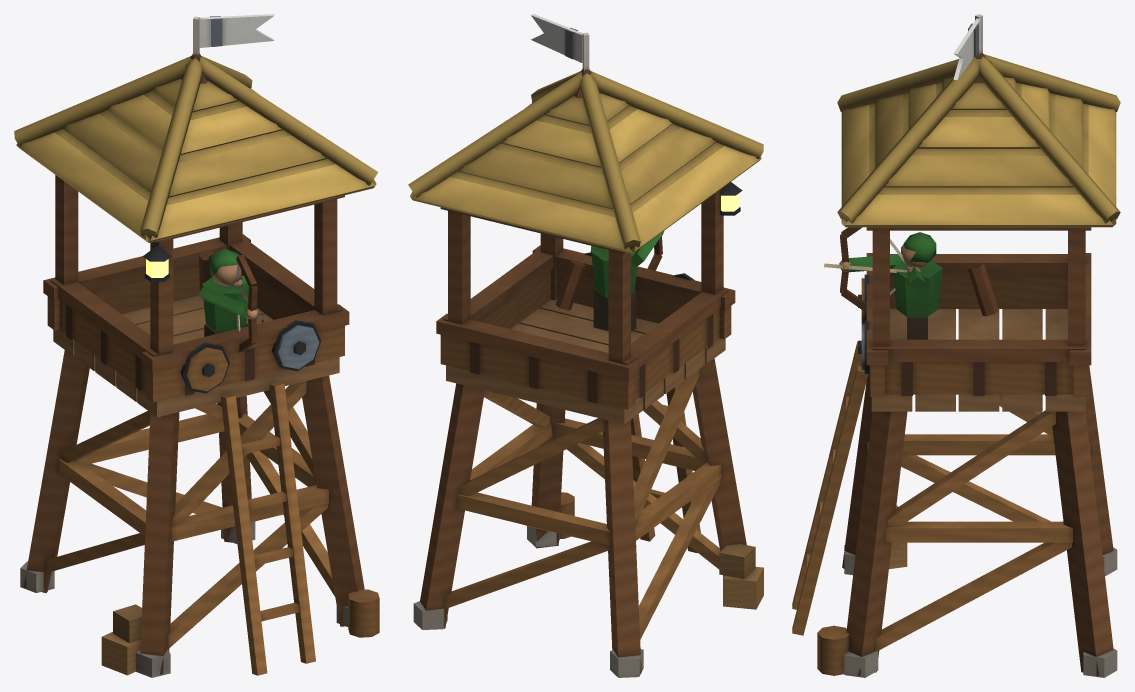
File: tower_l2.glb
3 views of the same model, side by side, from view 1: azimuth 30°, elevation 25°; view 2: azimuth 150°, elevation 25°; view 3: azimuth 270°, elevation 25° (orthographic). The views are drawn at different scales.
Visible parts, largest first — view 1: tower_l2; view 2: tower_l2; view 3: tower_l2.
Part boxes in pixels (box(x1,y1,x2,y2)): tower_l2: box(14, 14, 379, 677); tower_l2: box(408, 14, 763, 677); tower_l2: box(792, 14, 1120, 677).
Size of the model in its own units: 0.4169 by 0.9227 by 0.4534.
Materials: 2 (1 with a texture image).
